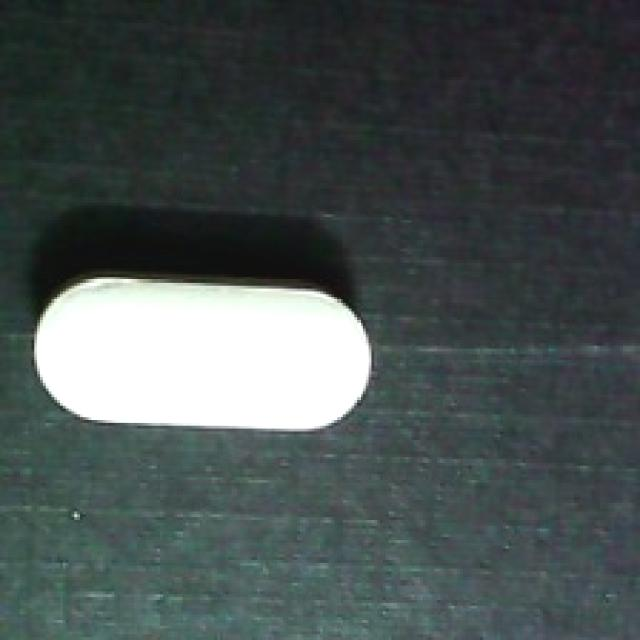no-defect: (29, 260, 377, 434)
